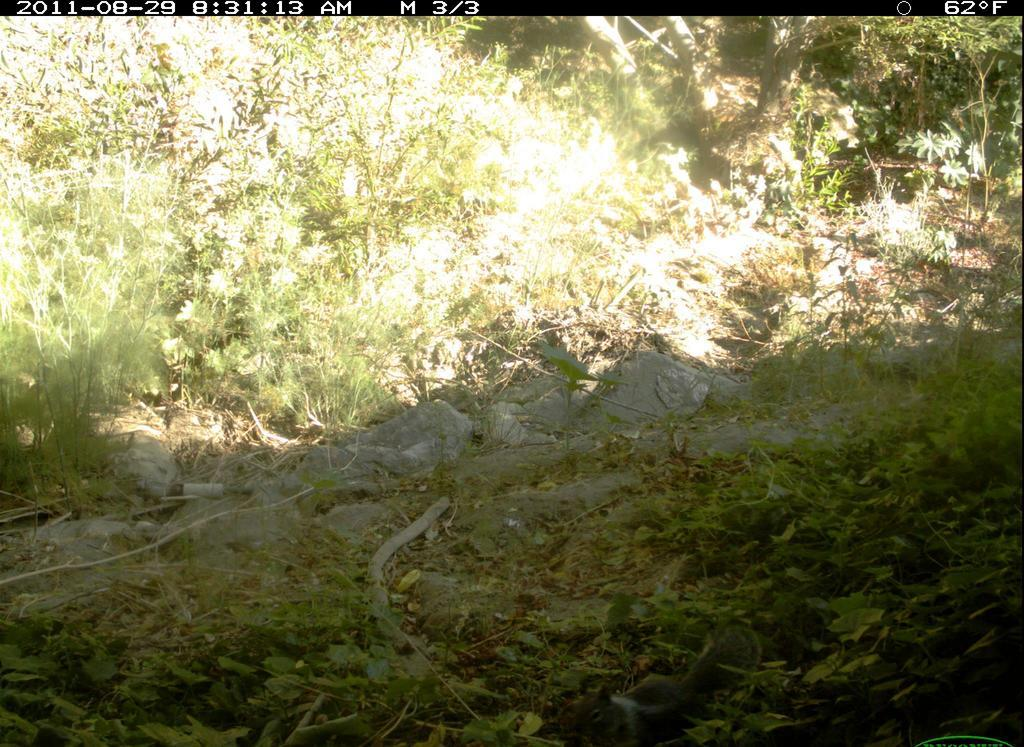squirrel: (559, 621, 765, 740)
